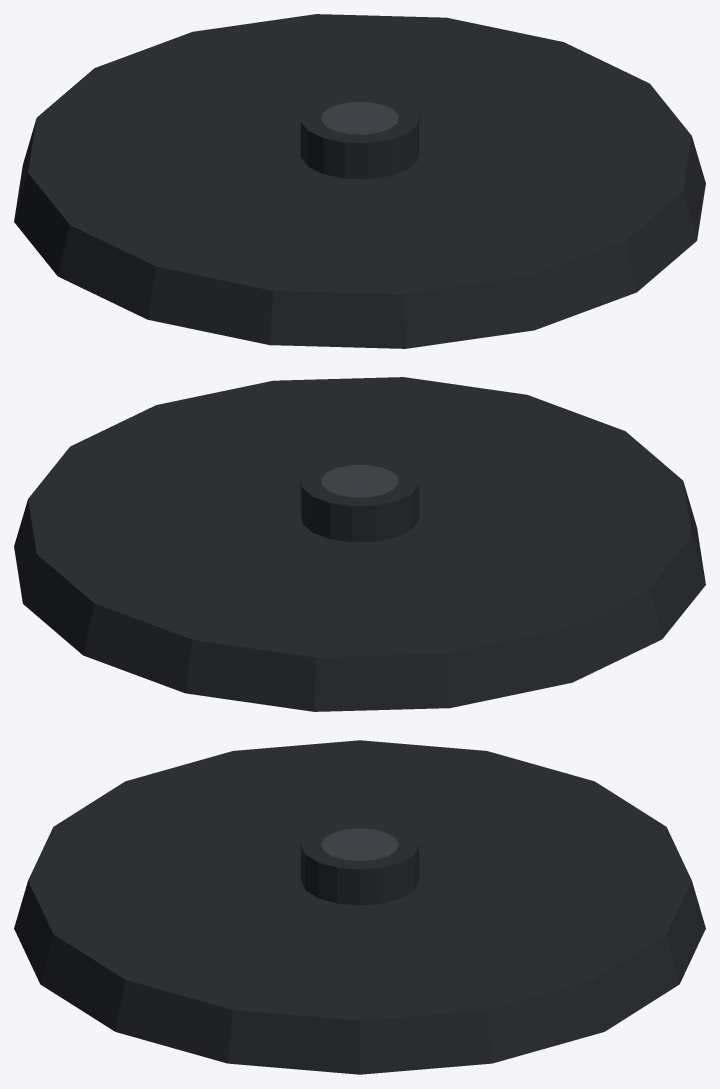
File: Kettle1_C2_02.fbx
The picture shows the model from 3 angles, top to bottom: view 1: azimuth 30°, elevation 25°; view 2: azimuth 150°, elevation 25°; view 3: azimuth 270°, elevation 25°; orthographic projection.
Visible parts, largest first — view 1: Kettle1_C2_02; view 2: Kettle1_C2_02; view 3: Kettle1_C2_02.
Part boxes in pixels (x1=…): Kettle1_C2_02: x1=14, y1=14, x2=705, y2=348; Kettle1_C2_02: x1=14, y1=377, x2=705, y2=711; Kettle1_C2_02: x1=14, y1=740, x2=705, y2=1074.
Bounding box in the file's own units: 26.65 × 3.56 × 26.65.
